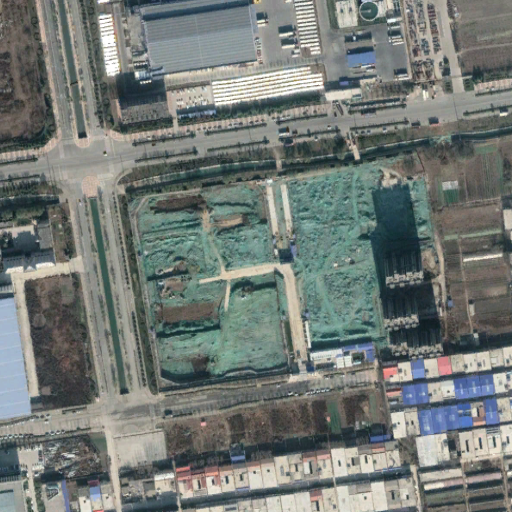cw: (126, 153, 432, 393)
